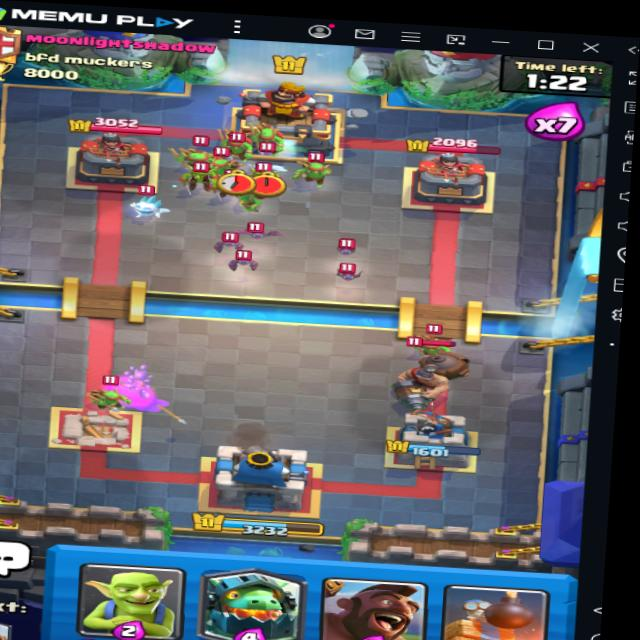bats: (314, 230, 372, 259), (234, 220, 288, 242), (325, 264, 369, 286), (224, 246, 262, 271), (215, 230, 255, 253)
goblin: (179, 165, 214, 195)
ice-spirit: (124, 191, 167, 221)
mighty-miner: (378, 341, 478, 417)
spear-goblin: (79, 377, 131, 417), (163, 136, 212, 172), (205, 150, 243, 179), (252, 121, 287, 152), (298, 157, 337, 184), (220, 130, 255, 160)
